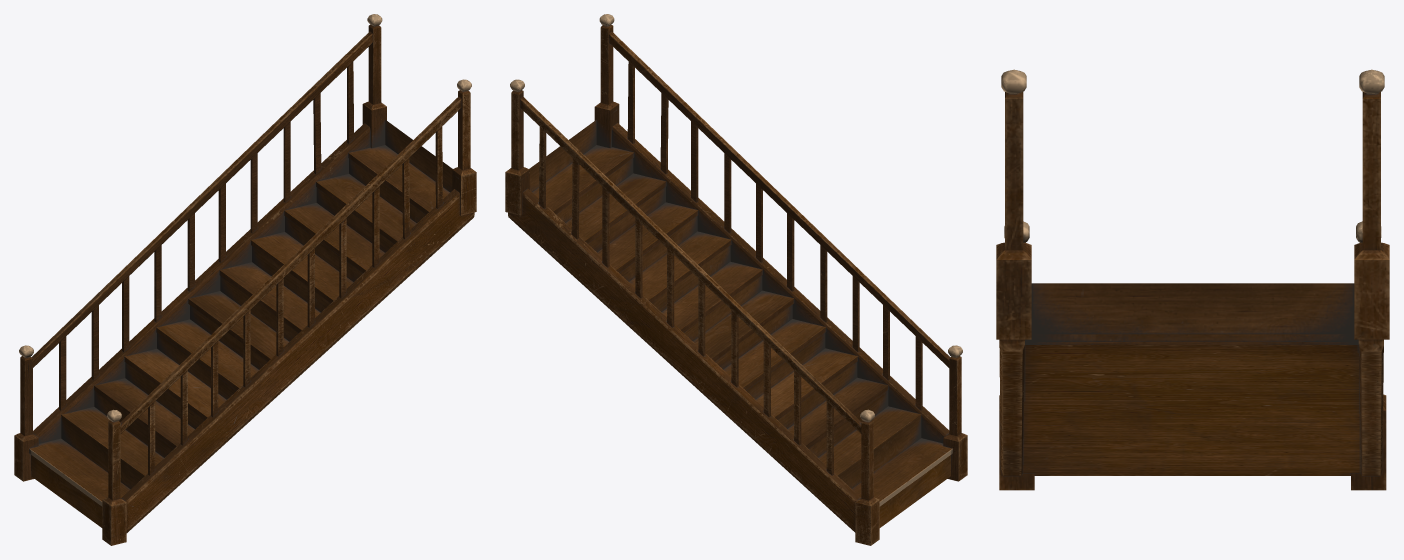
The model's file is WoodenStairs2.glb.
3 views of the same model, side by side, from view 1: azimuth 30°, elevation 25°; view 2: azimuth 150°, elevation 25°; view 3: azimuth 270°, elevation 25° (orthographic). The views are drawn at different scales.
Parts seen in each view (by area): view 1: object_2_object_2_0; view 2: object_2_object_2_0; view 3: object_2_object_2_0.
Part boxes in pixels (<box>): object_2_object_2_0: <box>14,14,476,545</box>; object_2_object_2_0: <box>505,14,967,545</box>; object_2_object_2_0: <box>996,69,1389,490</box>.
Bounding box in the file's own units: 3.48 × 3.42 × 1.62.
Materials: 1 (1 with a texture image).
